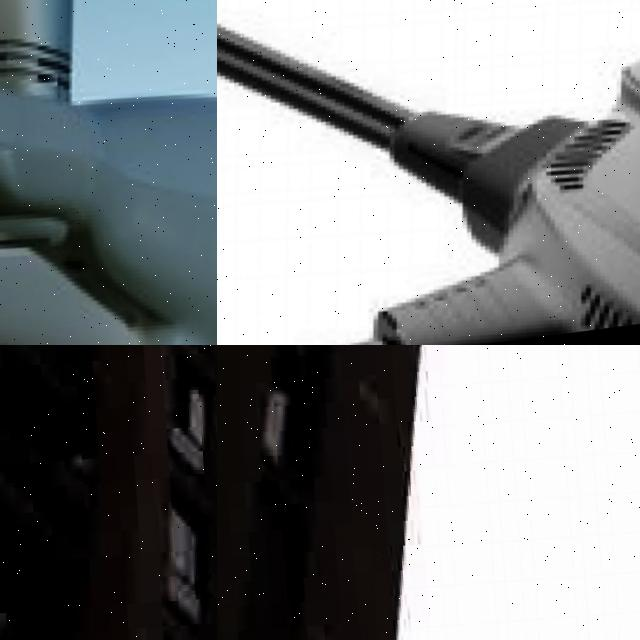drone: (217, 0, 640, 345), (0, 0, 217, 345)
